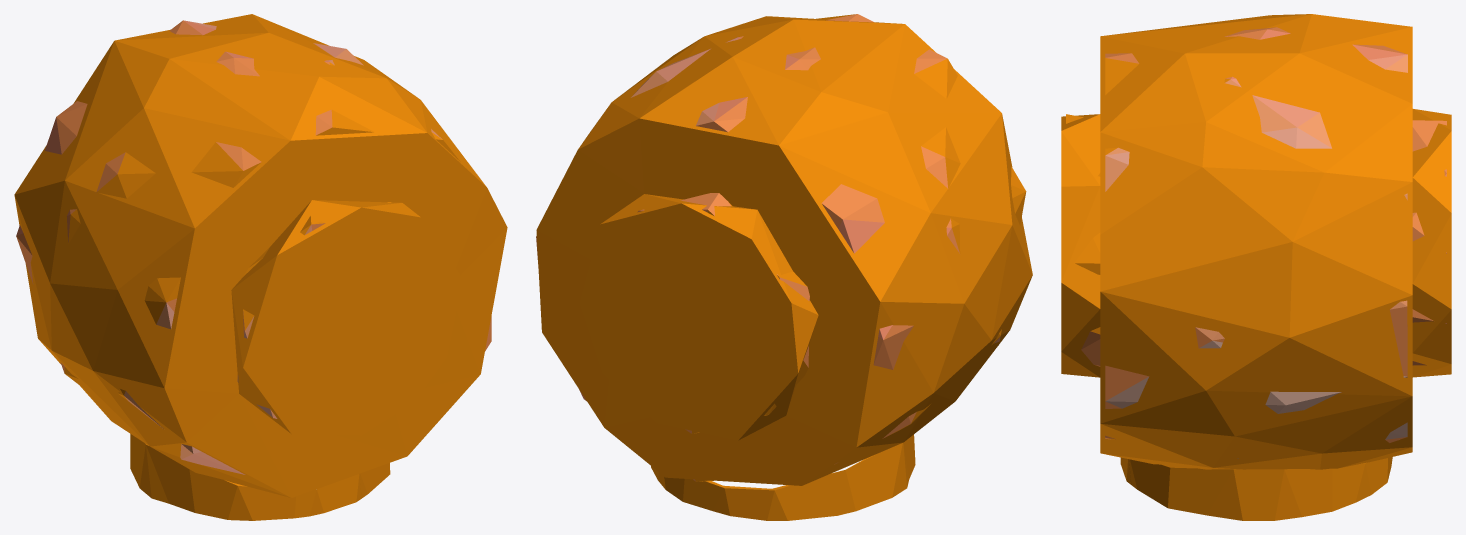
File: KukaKR6R900Link5.dae
3 views of the same model, side by side, from view 1: azimuth 30°, elevation 25°; view 2: azimuth 150°, elevation 25°; view 3: azimuth 270°, elevation 25° (orthographic). The views are drawn at different scales.
Parts seen in each view (by area): view 1: KUKAKR6R900Link5; view 2: KUKAKR6R900Link5; view 3: KUKAKR6R900Link5.
Boxes of the visible parts, x1,y1,x2,y2 form: KUKAKR6R900Link5: (14, 14, 507, 520); KUKAKR6R900Link5: (536, 14, 1032, 520); KUKAKR6R900Link5: (1061, 14, 1451, 520).
Bounding box in the file's own units: 0.0933 × 0.0782 × 0.0942.
